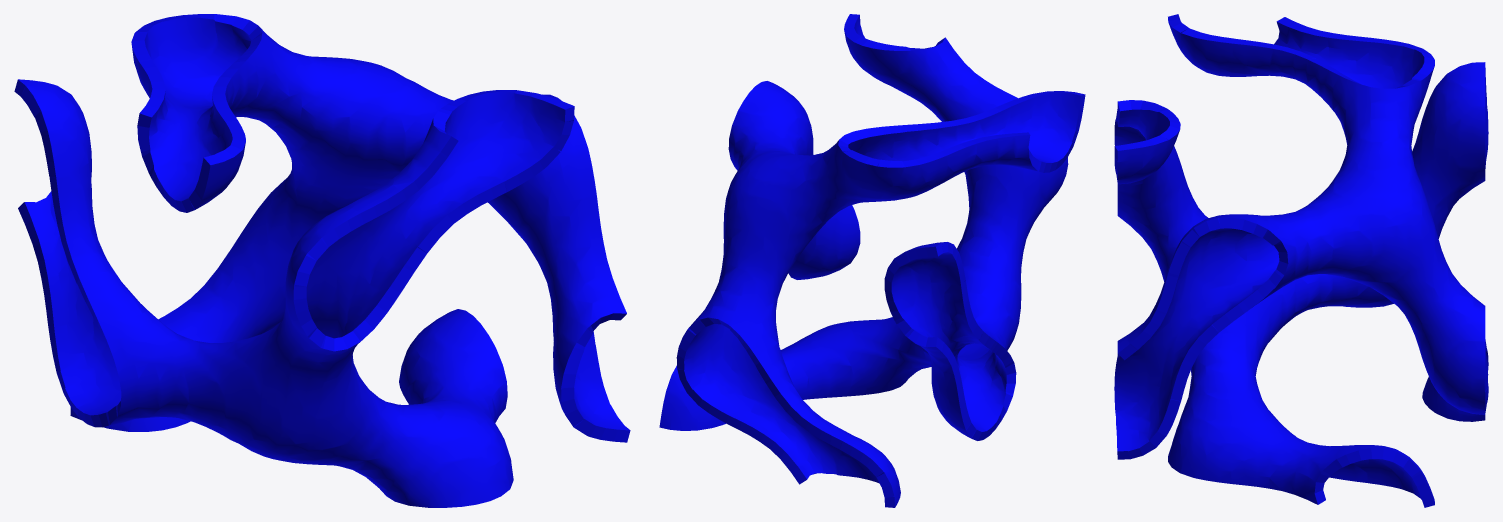
3 views of the same model, side by side, from view 1: azimuth 30°, elevation 25°; view 2: azimuth 150°, elevation 25°; view 3: azimuth 270°, elevation 25° (orthographic). The views are drawn at different scales.
Size of the model in its own units: 0.2036 by 0.2036 by 0.2036.
